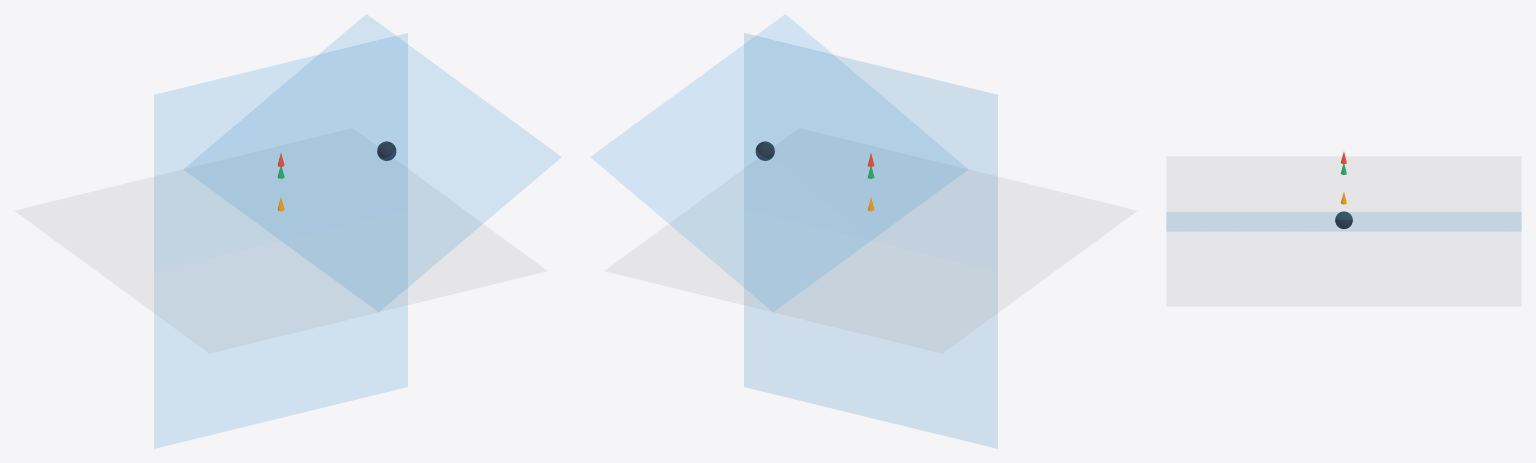
File: Bài 7.26.glb
3 renders of one model, left to right at view 1: azimuth 30°, elevation 25°; view 2: azimuth 150°, elevation 25°; view 3: azimuth 270°, elevation 25°, orthographic. The views are drawn at different scales.
Bounding box in the file's own units: 8.33 × 8 × 8.
